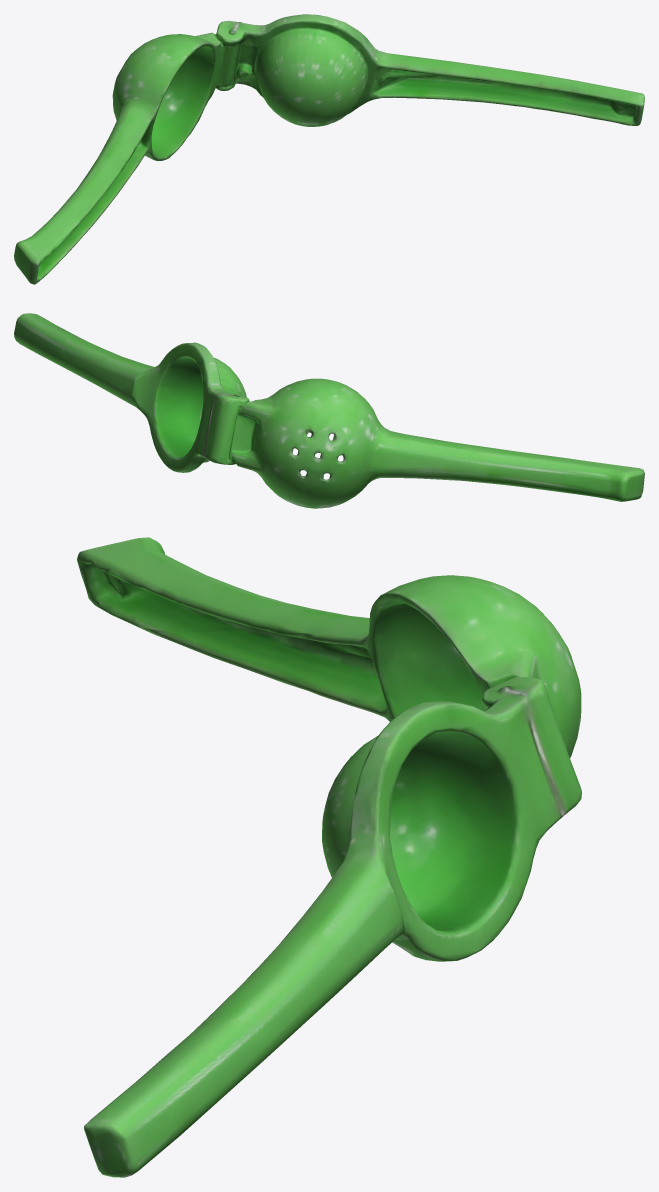
The model's file is Focus_8643_Lime_Squeezer_10x35x188_Enamelled_Aluminum_Light.glb.
3 views of the same model, one above another, from view 1: azimuth 30°, elevation 25°; view 2: azimuth 150°, elevation 25°; view 3: azimuth 270°, elevation 25° (orthographic). The views are drawn at different scales.
Visible parts, largest first — view 1: Focus_8643_Lime_Squeezer_10x35x188_Enamelled_Aluminum_Light; view 2: Focus_8643_Lime_Squeezer_10x35x188_Enamelled_Aluminum_Light; view 3: Focus_8643_Lime_Squeezer_10x35x188_Enamelled_Aluminum_Light.
Part boxes in pixels (bbox=[...]): Focus_8643_Lime_Squeezer_10x35x188_Enamelled_Aluminum_Light: bbox=[14, 14, 644, 284]; Focus_8643_Lime_Squeezer_10x35x188_Enamelled_Aluminum_Light: bbox=[14, 313, 644, 508]; Focus_8643_Lime_Squeezer_10x35x188_Enamelled_Aluminum_Light: bbox=[77, 537, 581, 1177].
Size of the model in its own units: 0.3356 by 0.0633 by 0.1185.
1 material, 1 textured.
